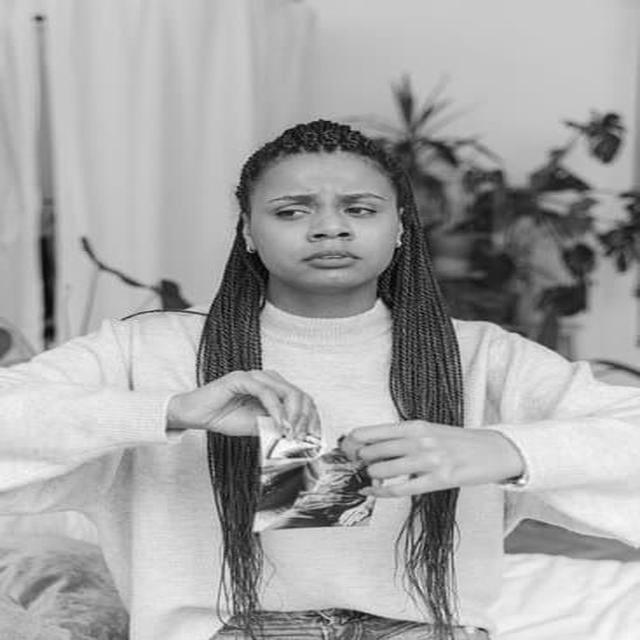Sadness: (253, 154, 398, 288)
